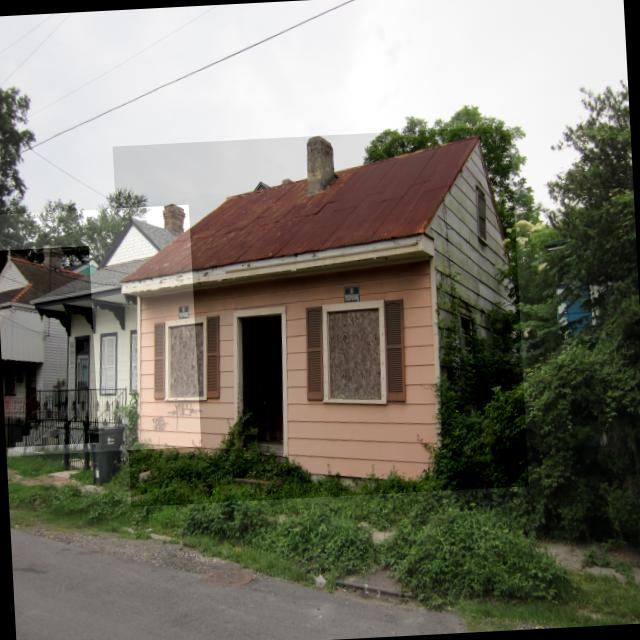House: (113, 126, 529, 507), (0, 204, 202, 456), (0, 246, 99, 448)
